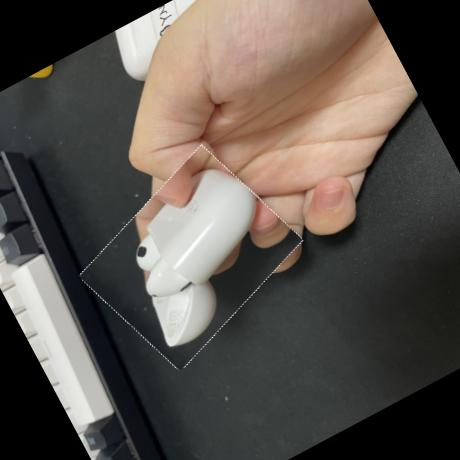airpod3: (65, 140, 316, 378)
